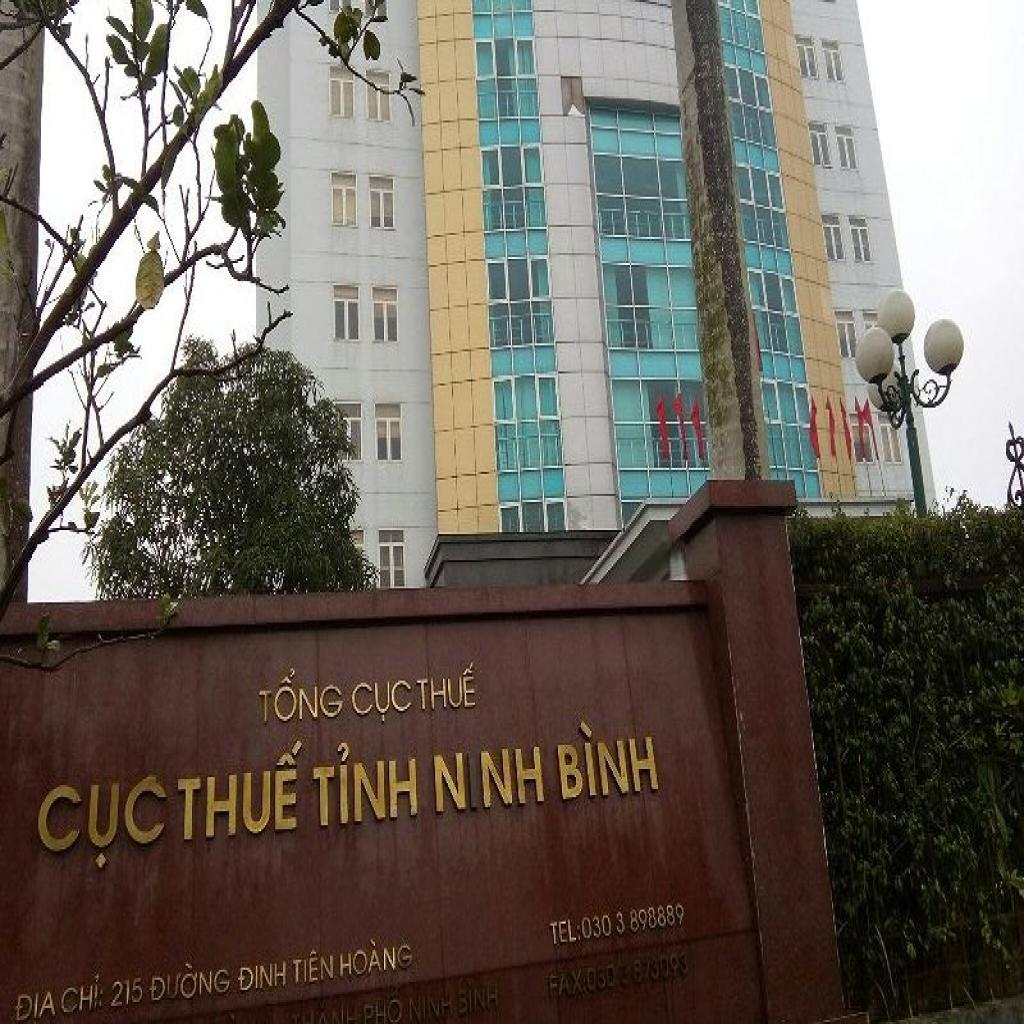text: (174, 737, 307, 849), (37, 773, 172, 877), (310, 735, 421, 833), (554, 717, 663, 807), (257, 662, 346, 731), (480, 743, 548, 815), (580, 900, 688, 944), (147, 956, 233, 1008), (339, 932, 416, 982), (416, 658, 480, 716), (349, 674, 415, 728), (432, 749, 468, 819), (60, 970, 105, 1018), (457, 974, 502, 1018), (237, 958, 289, 996), (292, 946, 336, 990), (408, 988, 456, 1024), (14, 986, 59, 1024), (548, 964, 589, 1004), (548, 914, 584, 952), (109, 974, 146, 1010)
